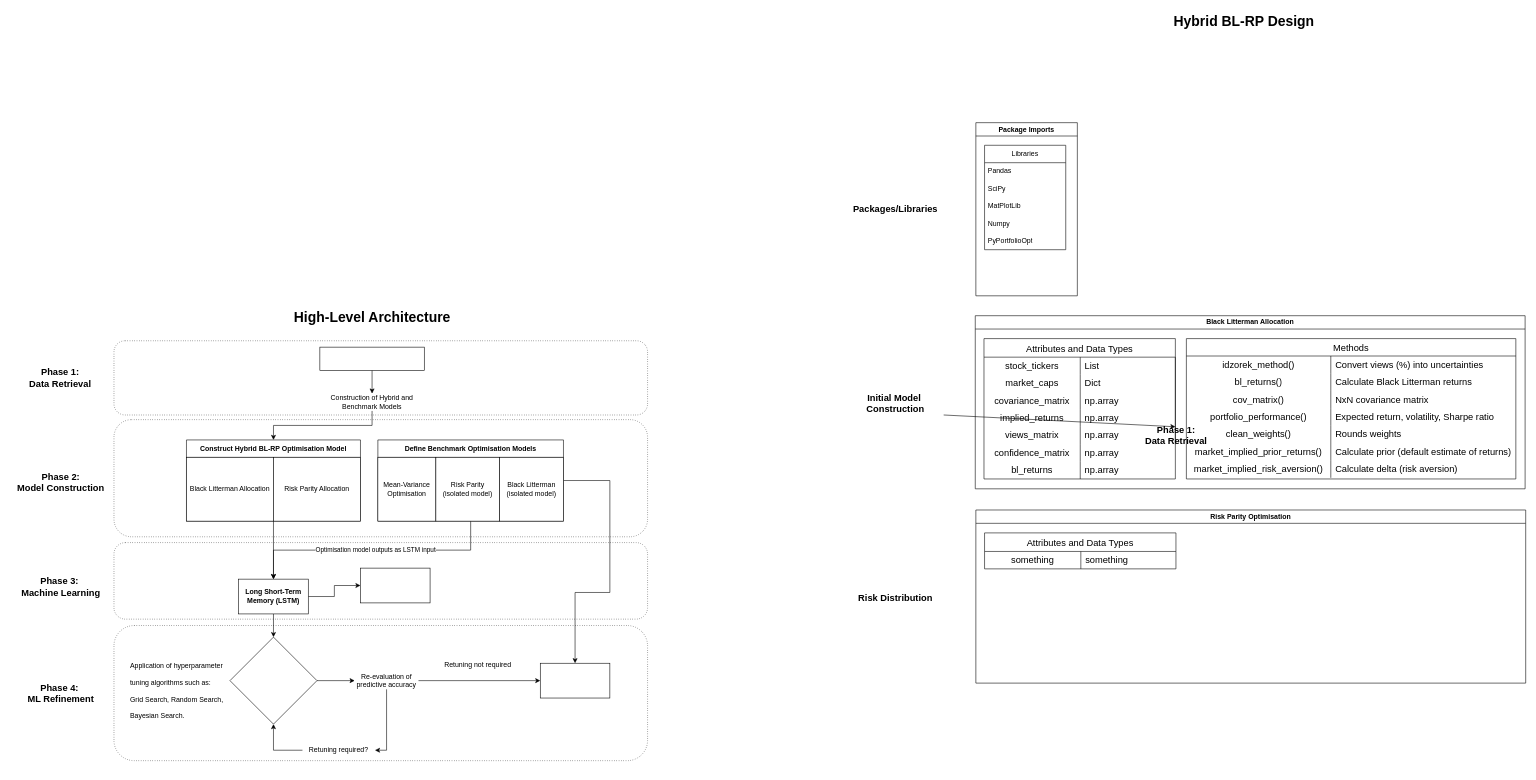
Image size: 1536x780. Some labels were removed from this diagram. Here are the shapes that lost their labels. From the top down, the centre of each, then its label:
At (371,358): "Define asset universe".
At (395,585): "LSTM Predictive Accuracy Evaluation".
At (273,680): "Hyperparameter Tuning".
At (575,680): "Evaluation of Model Performance (Hybrid vs. Benchmark)".
